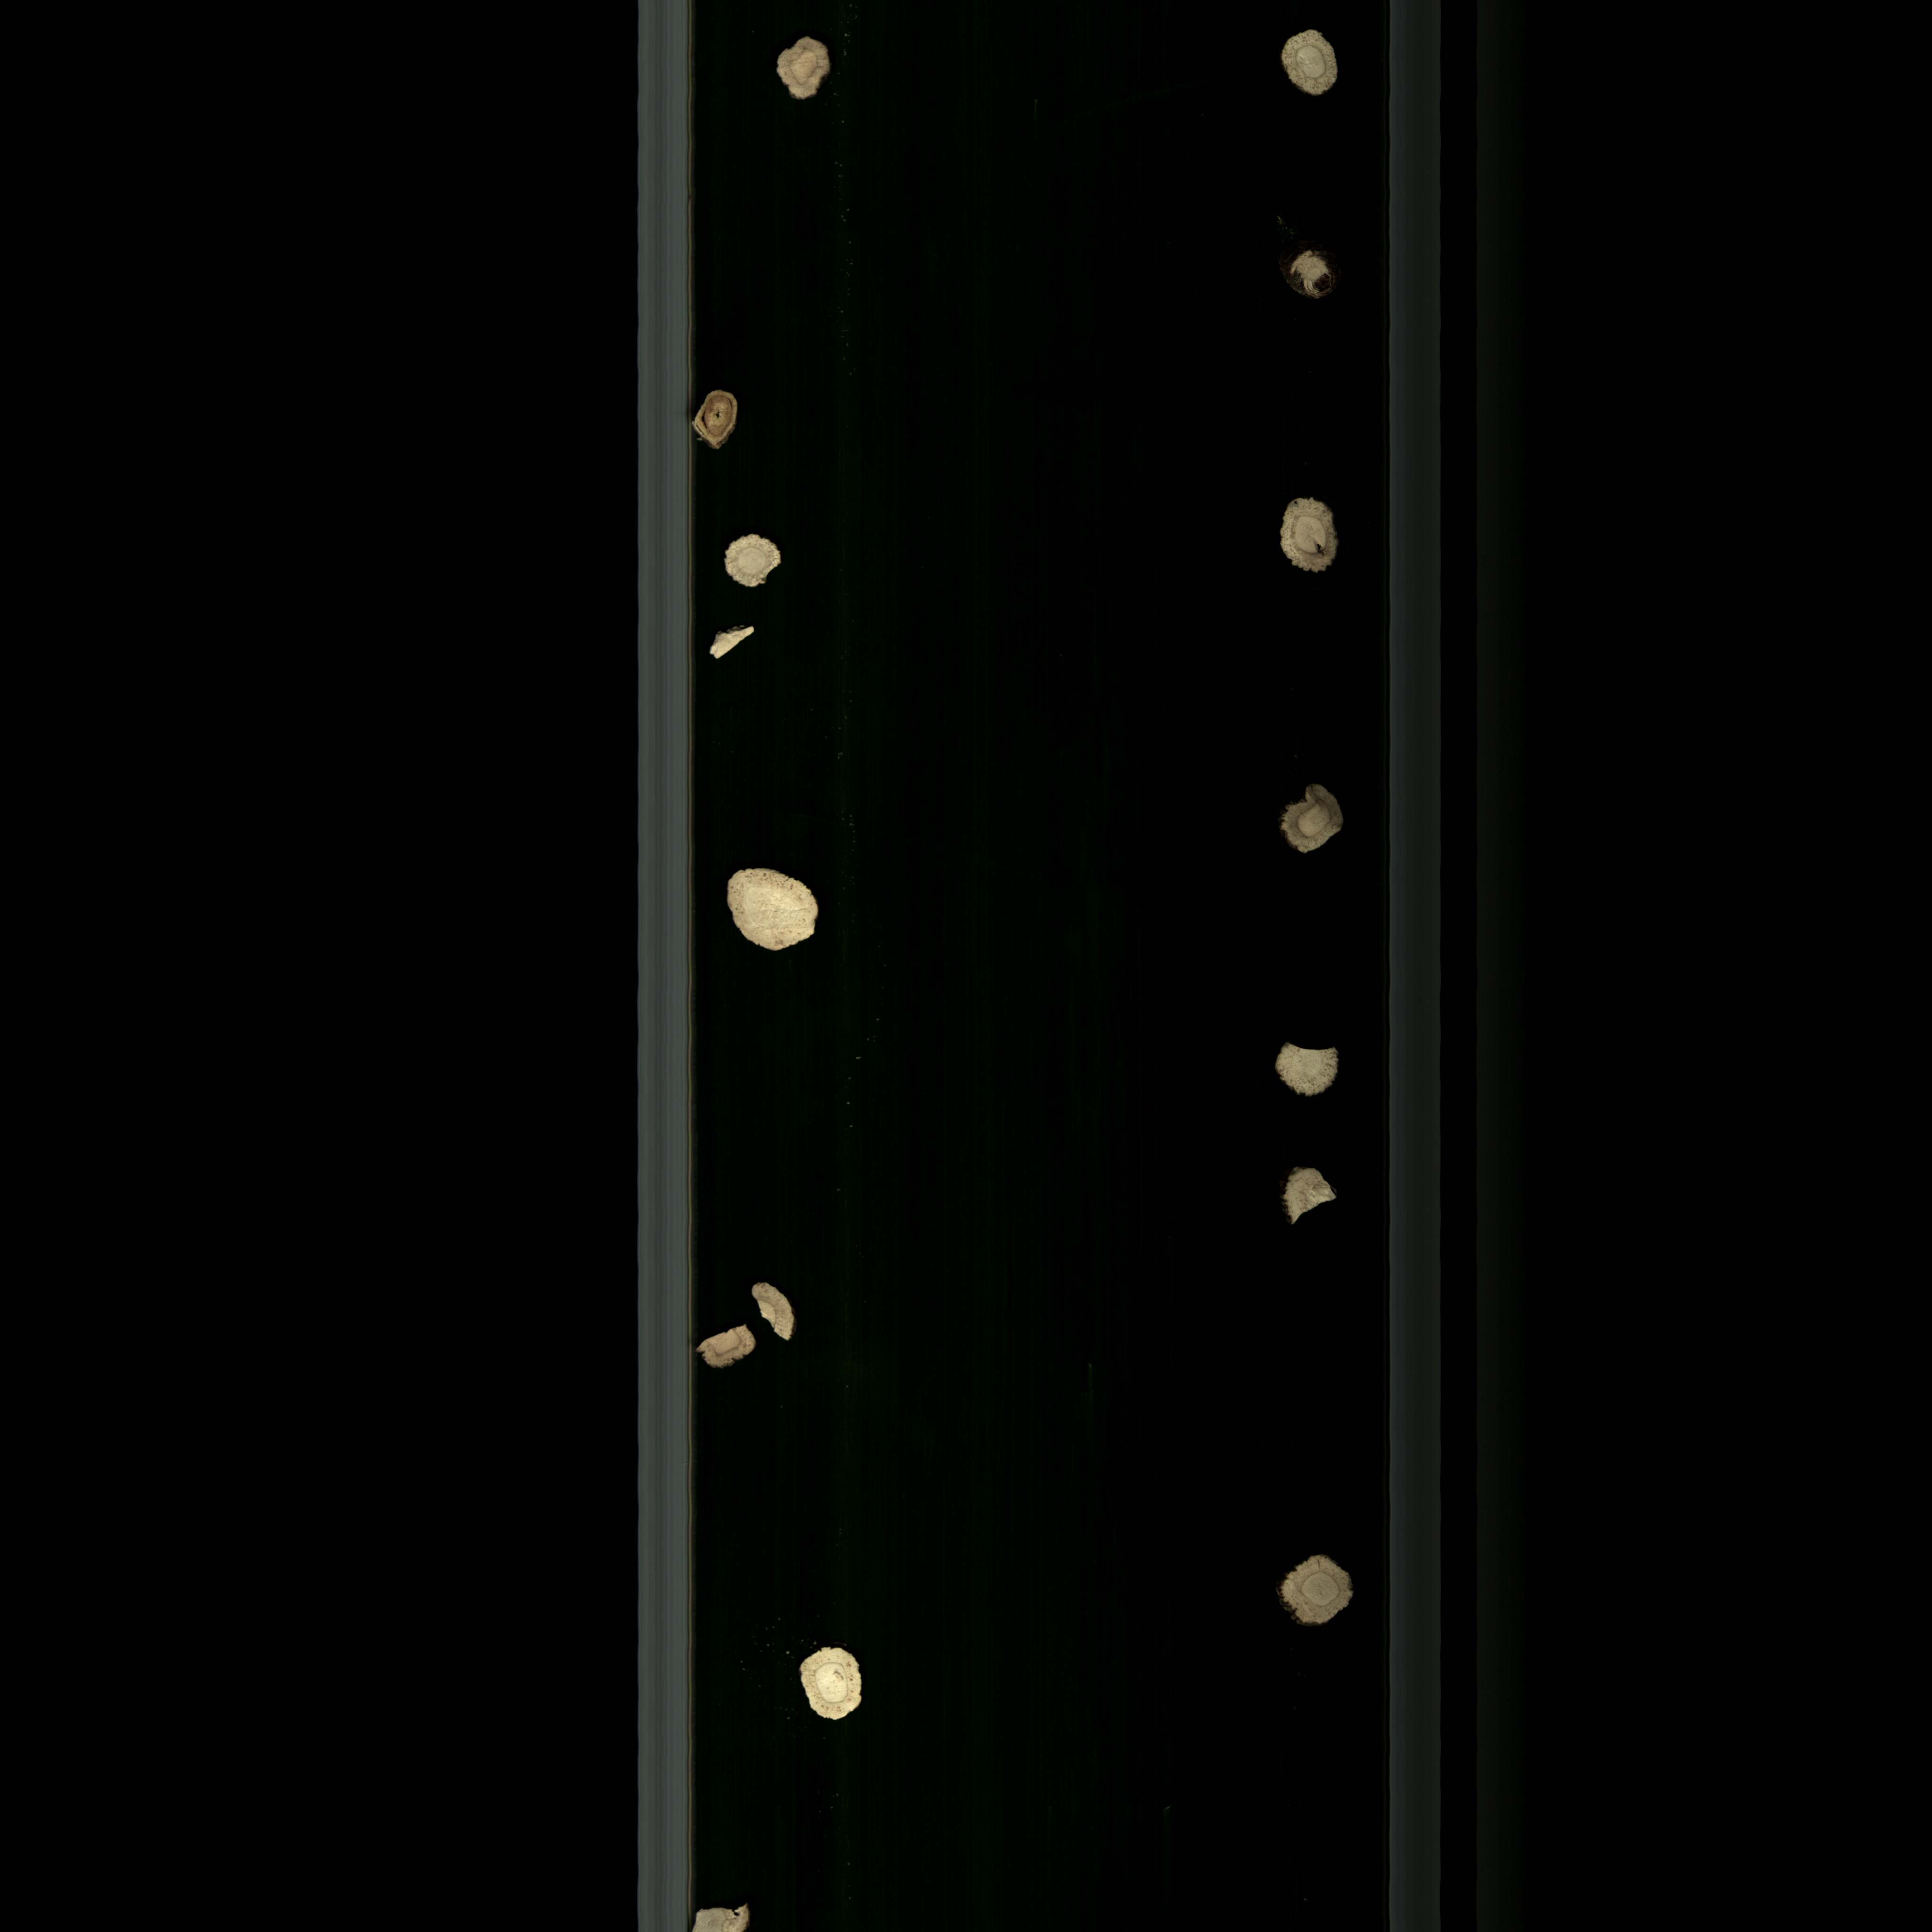debris: (717, 856, 828, 975), (1270, 1030, 1353, 1113), (1279, 1159, 1345, 1233), (690, 1898, 777, 1932)
dreg: (736, 1272, 821, 1355), (697, 617, 763, 663)
moldy: (1274, 488, 1348, 589), (1265, 1546, 1357, 1628), (1276, 775, 1350, 869), (766, 27, 844, 115), (685, 380, 752, 462), (692, 1320, 761, 1375), (1284, 239, 1339, 306)
